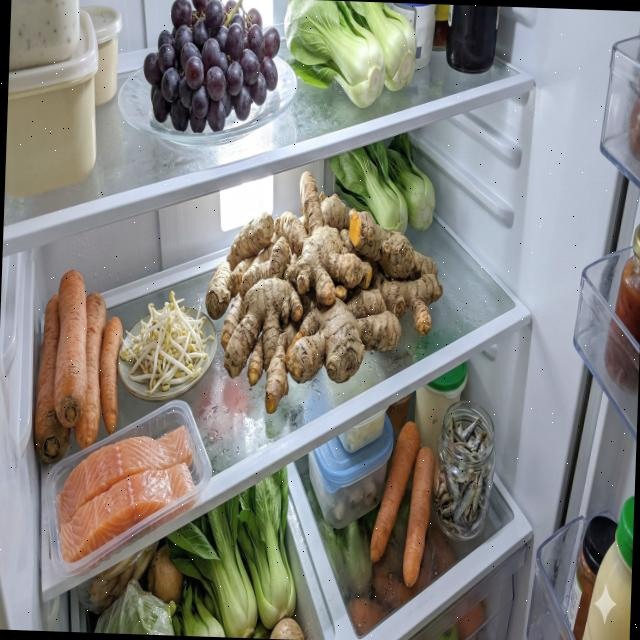anchovies: (433, 413, 494, 539)
bean_sprouts: (118, 288, 216, 398)
carrot: (31, 266, 126, 468), (368, 420, 436, 588)
fish: (53, 419, 198, 582)
grape: (140, 0, 281, 136)
pakchoy: (162, 460, 301, 639), (280, 0, 418, 109), (325, 128, 438, 236)
turmeric: (202, 167, 446, 420)
